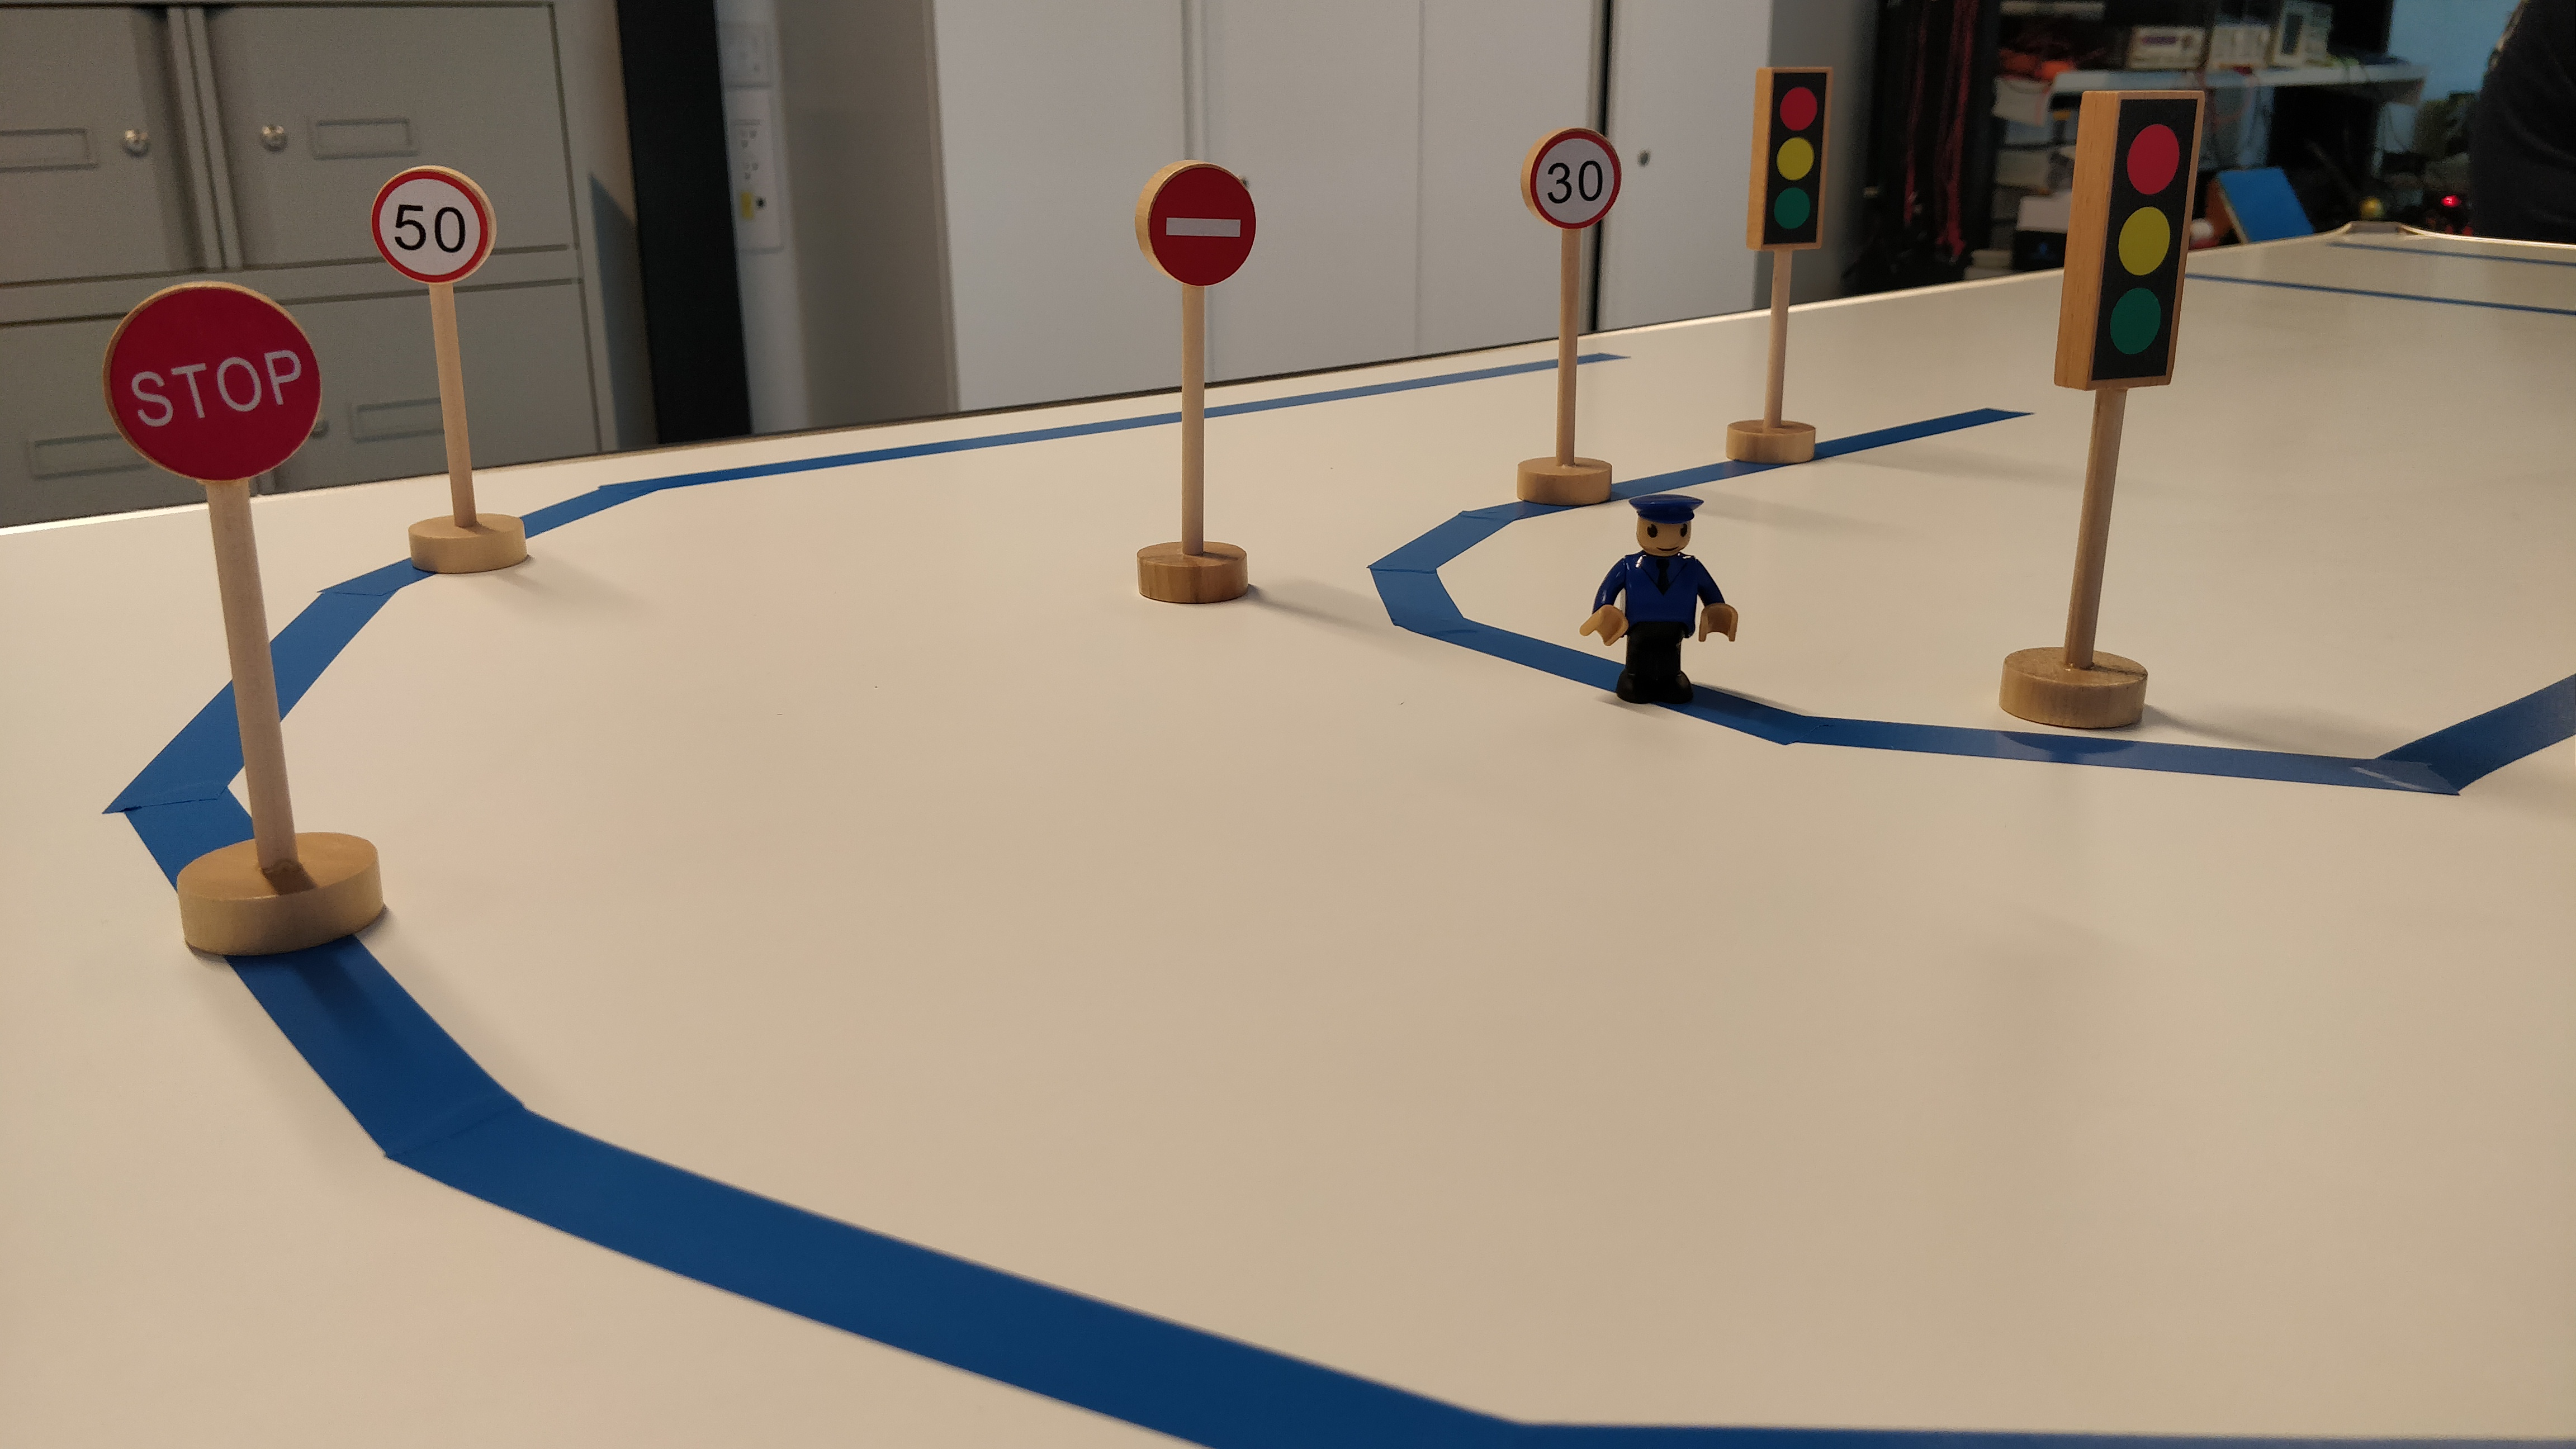Person: (1577, 485, 1751, 711)
Prohibition Sign: (1130, 157, 1261, 290)
Speed Limit 30: (1519, 126, 1623, 229)
Speed Limit 50: (368, 162, 498, 289)
Stop Sign: (100, 283, 323, 485)
Traffic Light: (2048, 89, 2210, 391), (1742, 68, 1839, 253)
